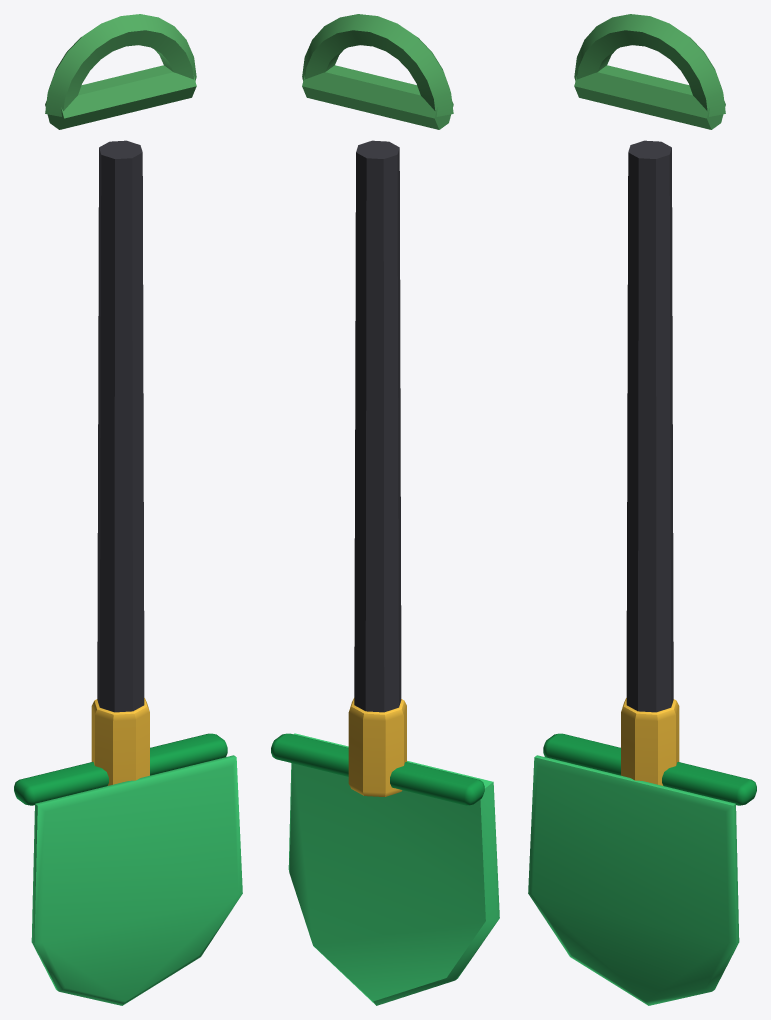
Rendered from EmeraldShovel.fbx.
The picture shows the model from 3 angles, left to right: view 1: azimuth 30°, elevation 25°; view 2: azimuth 150°, elevation 25°; view 3: azimuth 330°, elevation 25°; orthographic projection.
Visible parts, largest first — view 1: EmeraldShovel; view 2: EmeraldShovel; view 3: EmeraldShovel.
Boxes of the visible parts, box(x1,y1,x2,y2) form: EmeraldShovel: box(14, 14, 242, 1005); EmeraldShovel: box(271, 14, 499, 1005); EmeraldShovel: box(528, 14, 756, 1005).
Size of the model in its own units: 0.88 by 3.99 by 0.2516.
1 material, 1 textured.
